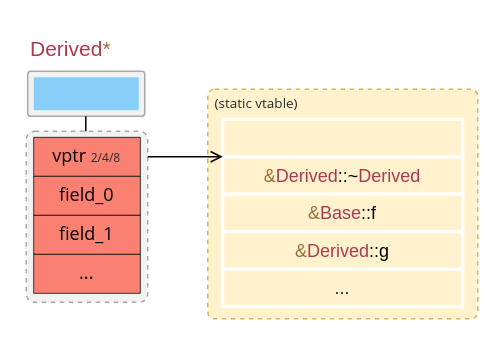
Image size: 504x345. Some labels were removed from this diagram. Here are the shapes that lost their labels. From the top down, the centre of each, then its label:
At point (85, 93): "ptr 2/4/8".
At point (342, 137): "& typeid ( Derived ) (RTTI)".
